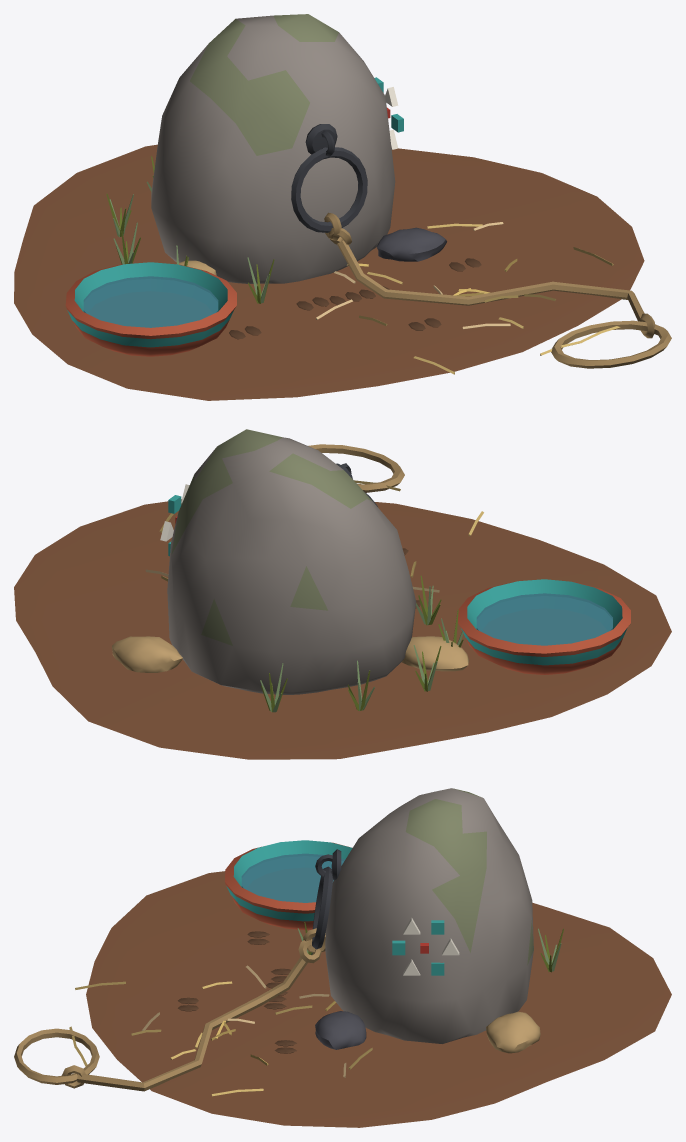
Rendered from deco_tether_stone.fbx.
The picture shows the model from 3 angles, top to bottom: view 1: azimuth 30°, elevation 25°; view 2: azimuth 150°, elevation 25°; view 3: azimuth 270°, elevation 25°; orthographic projection. The views are drawn at different scales.
Parts seen in each view (by area): view 1: TetherStone_Ground, TetherStone_Stone, TetherStone_Bowl, TetherStone_Rope, TetherStone_Ring, TetherStone_Eye; view 2: TetherStone_Ground, TetherStone_Stone, TetherStone_Bowl, TetherStone_Rope; view 3: TetherStone_Ground, TetherStone_Stone, TetherStone_Bowl, TetherStone_Rope, TetherStone_Ring.
Part boxes in pixels (bbox=[...]): TetherStone_Ground: bbox=[14, 144, 644, 400]; TetherStone_Stone: bbox=[151, 14, 403, 283]; TetherStone_Bowl: bbox=[65, 262, 236, 356]; TetherStone_Rope: bbox=[324, 212, 671, 368]; TetherStone_Ring: bbox=[291, 147, 367, 232]; TetherStone_Eye: bbox=[305, 124, 337, 156]; TetherStone_Ground: bbox=[14, 480, 671, 759]; TetherStone_Stone: bbox=[160, 429, 416, 694]; TetherStone_Bowl: bbox=[458, 579, 630, 674]; TetherStone_Rope: bbox=[308, 444, 404, 492]; TetherStone_Ground: bbox=[69, 871, 671, 1127]; TetherStone_Stone: bbox=[325, 788, 533, 1043]; TetherStone_Bowl: bbox=[224, 840, 352, 929]; TetherStone_Rope: bbox=[14, 928, 325, 1091]; TetherStone_Ring: bbox=[312, 866, 332, 949].
Bounding box in the file's own units: 288 × 109 × 304.
